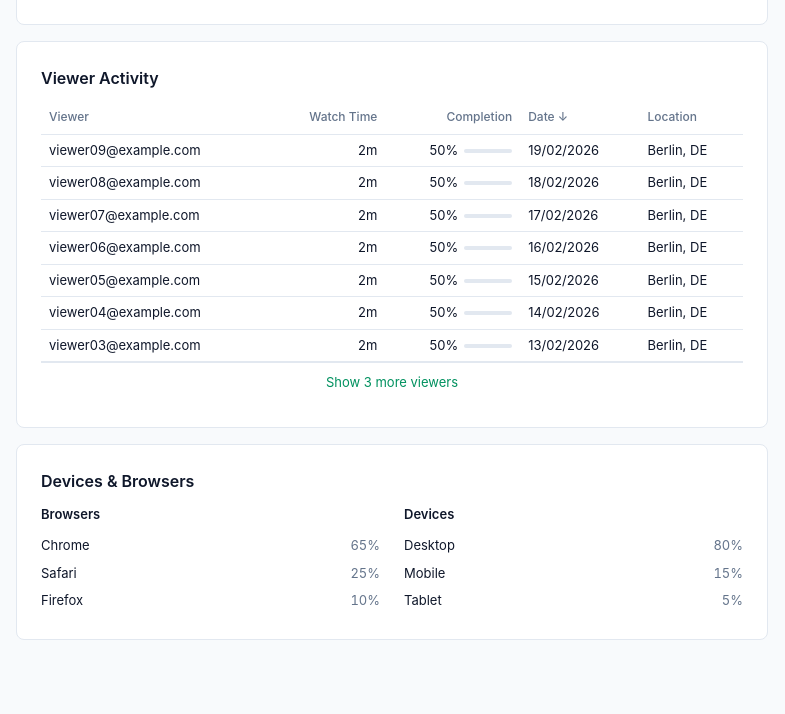
Test case: Analytics › Video analytics view › shows 'Show N more viewers' button
The width and height of the screenshot is (785, 714).
(page scrolled)
Expected: the heading "Viewer Activity" is shown, [41,68,159,88]
Click the button "Show 3 more viewers" at (392, 382), box [41,362,743,402]
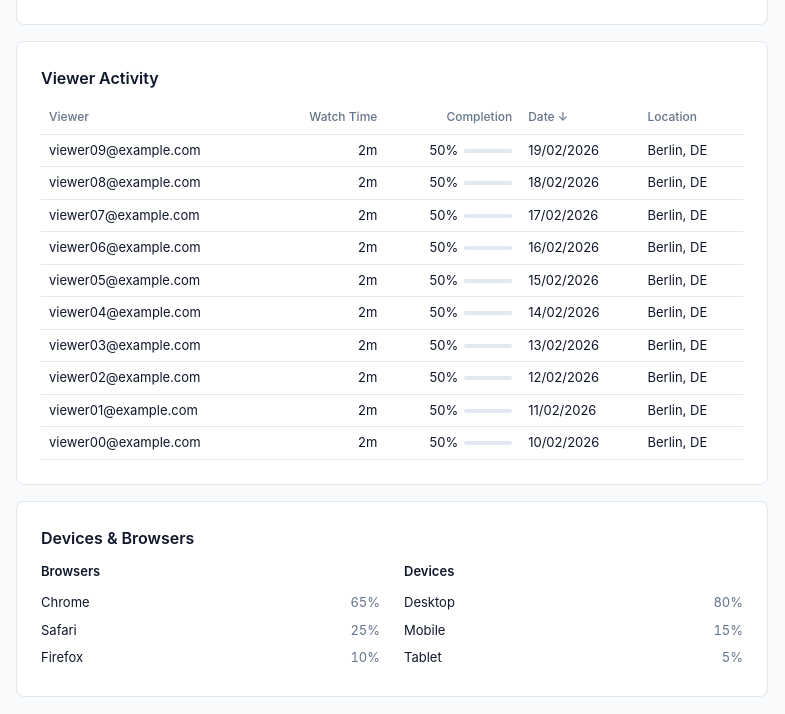
Expected: the text "viewer09@example.com" is shown, [41,134,270,166]
Result: the button "Show 3 more viewers" is gone
